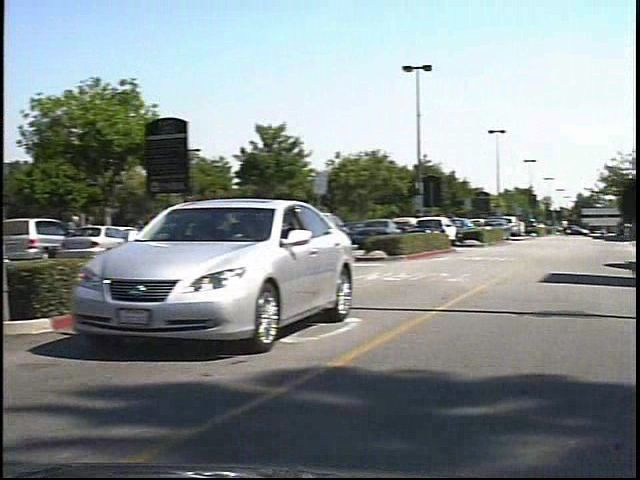person: (75, 211, 95, 233), (571, 218, 584, 239)
